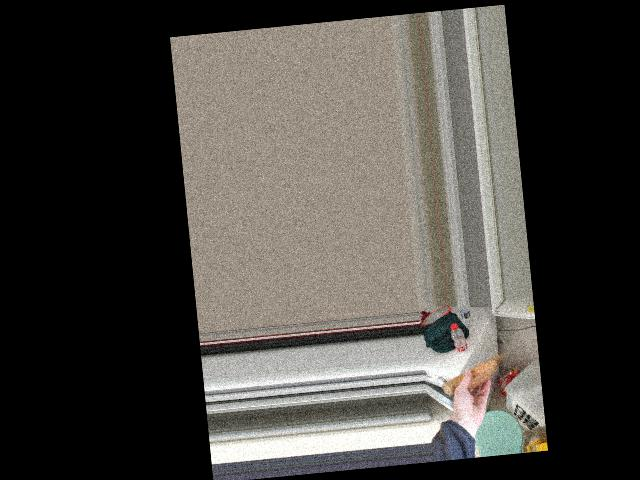sweet_potato: (444, 358, 493, 395)
